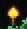torchT: (0, 1, 27, 29)
